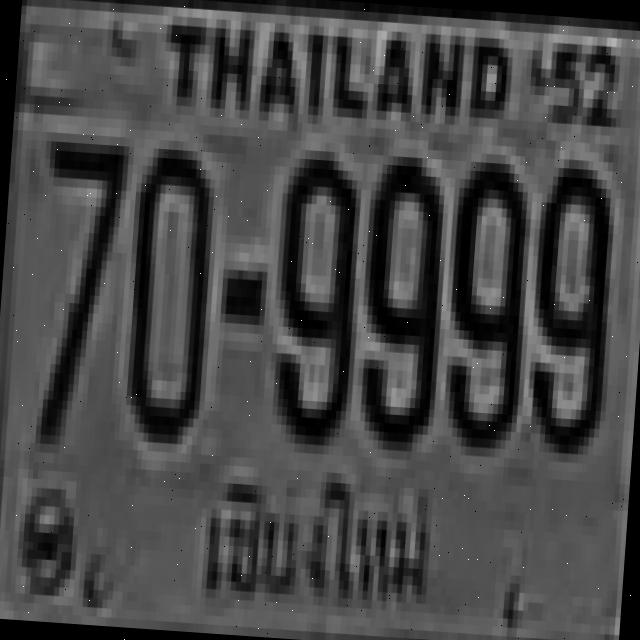0: (121, 138, 215, 436)
7: (26, 132, 125, 438)
9: (266, 144, 364, 442), (520, 153, 618, 451), (353, 146, 447, 444), (436, 156, 530, 445)
ChiangMai: (188, 453, 446, 622)
